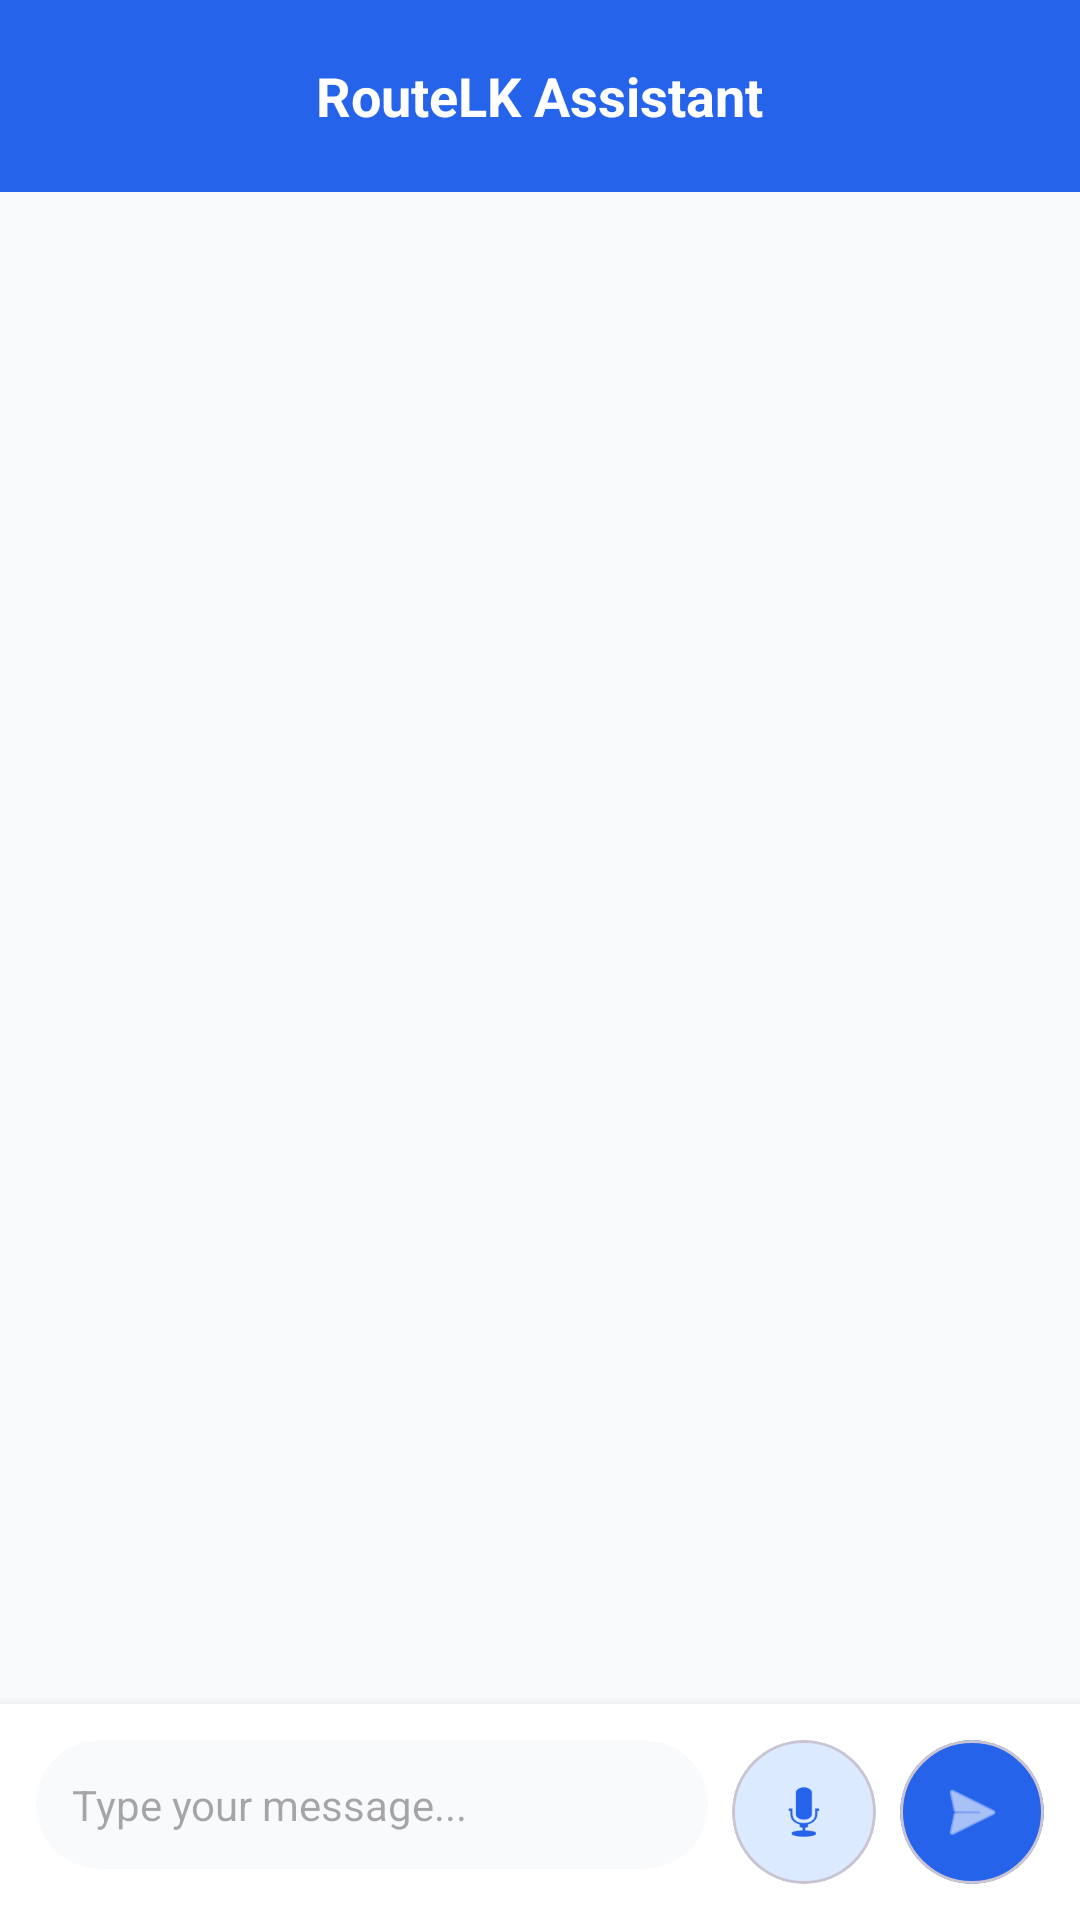

Icon bounding boxes for this 1080px x 1920px phone screenshot, format {"left": x1, "top": y1, "right": x2, "bottom": y2}:
send: {"left": 950, "top": 1790, "right": 996, "bottom": 1835}
speak now: {"left": 788, "top": 1787, "right": 820, "bottom": 1837}
